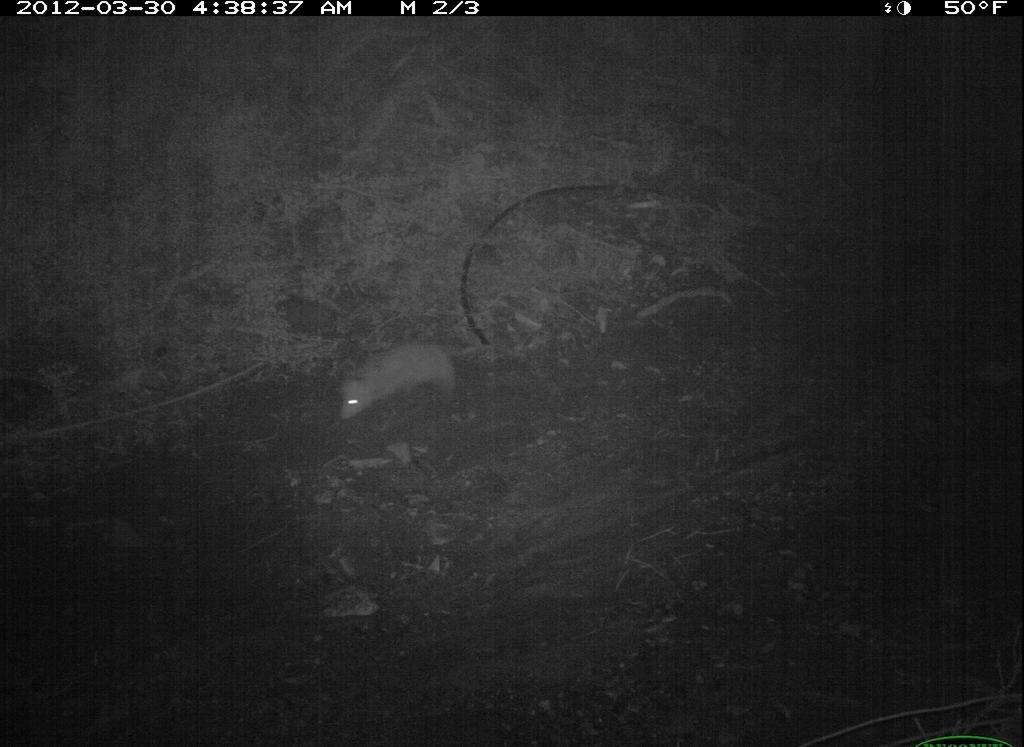opossum: (336, 329, 495, 440)
